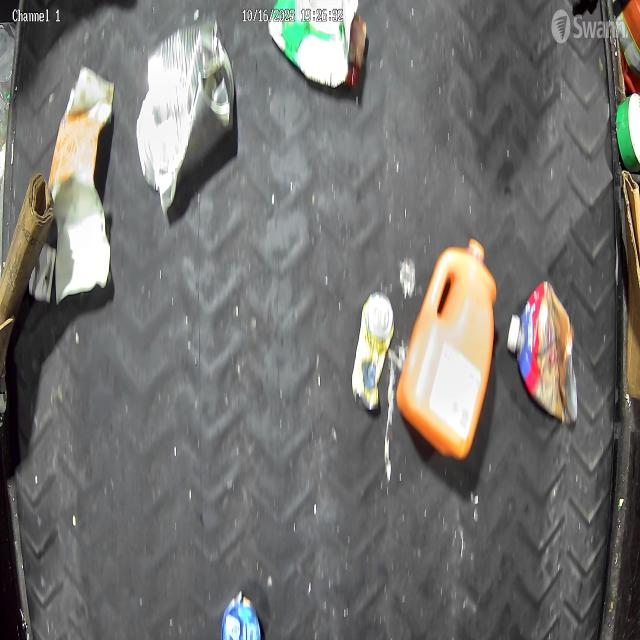can: (136, 11, 236, 217), (350, 290, 396, 412)
non_white_jug: (395, 235, 498, 462)
